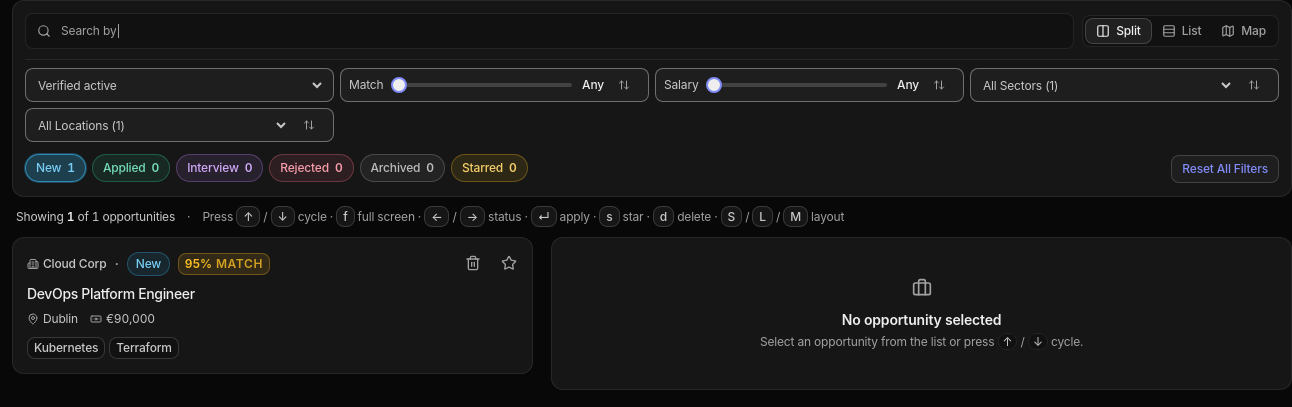
Test: JobsView Search Input › clears the animated hint on focus and keeps it hidden while the search has text
expect the text "Search by" is shown: met, box [61,23,116,39]
Focus the search field named "Search opportunities" at (550, 31), box [25,13,1074,49]
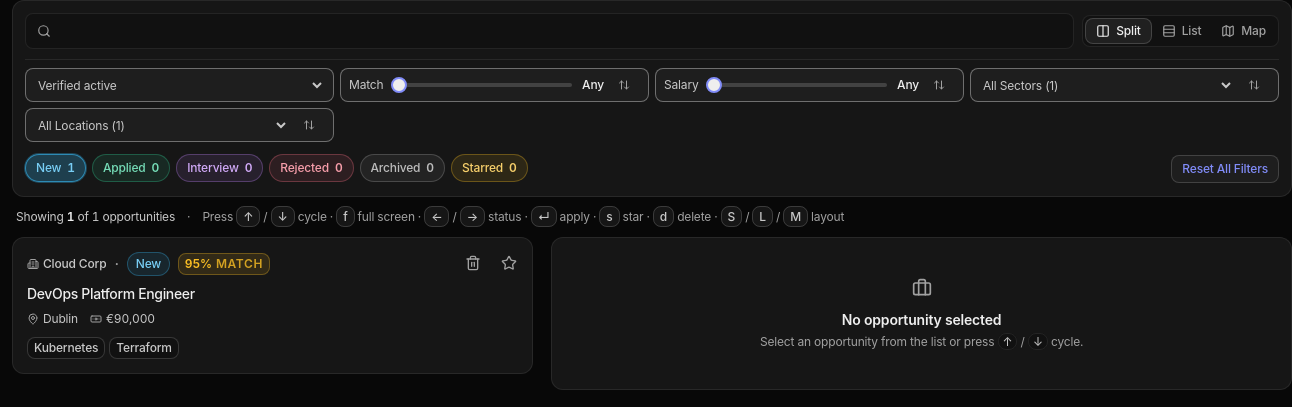
expect the text "Search by" is gone: met
Type "Engineer" into the search field named "Search opportunities" at (550, 31), box [25,13,1074,49]
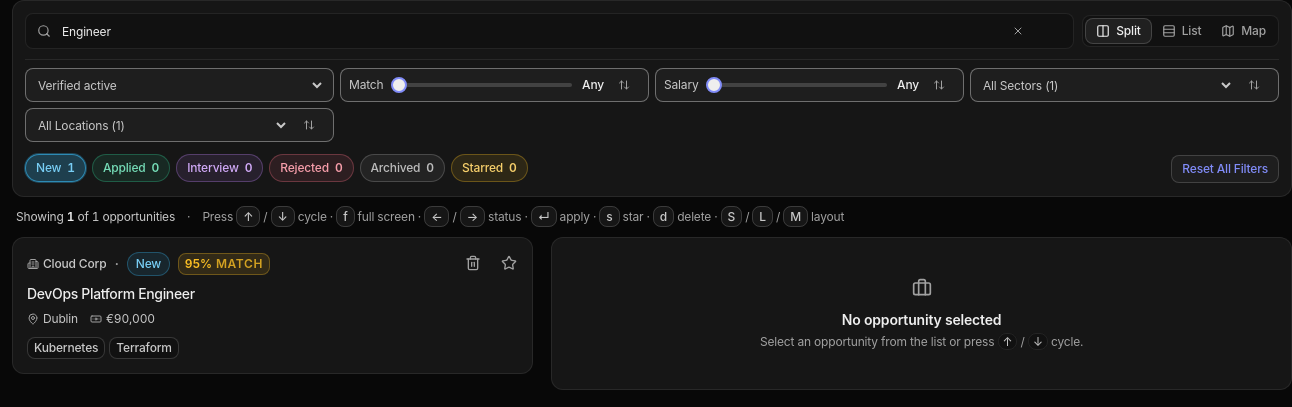
expect the text "Search by" is not shown: met
Click the button named "Clear search query" at (1018, 31), box [1010,23,1026,39]
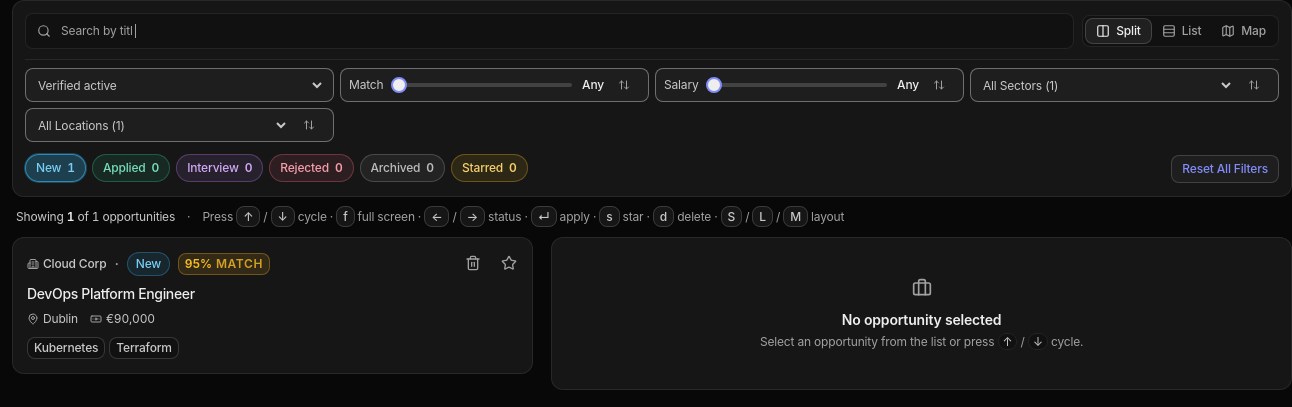
expect the text "Search by" is shown: met, box [61,23,116,38]
